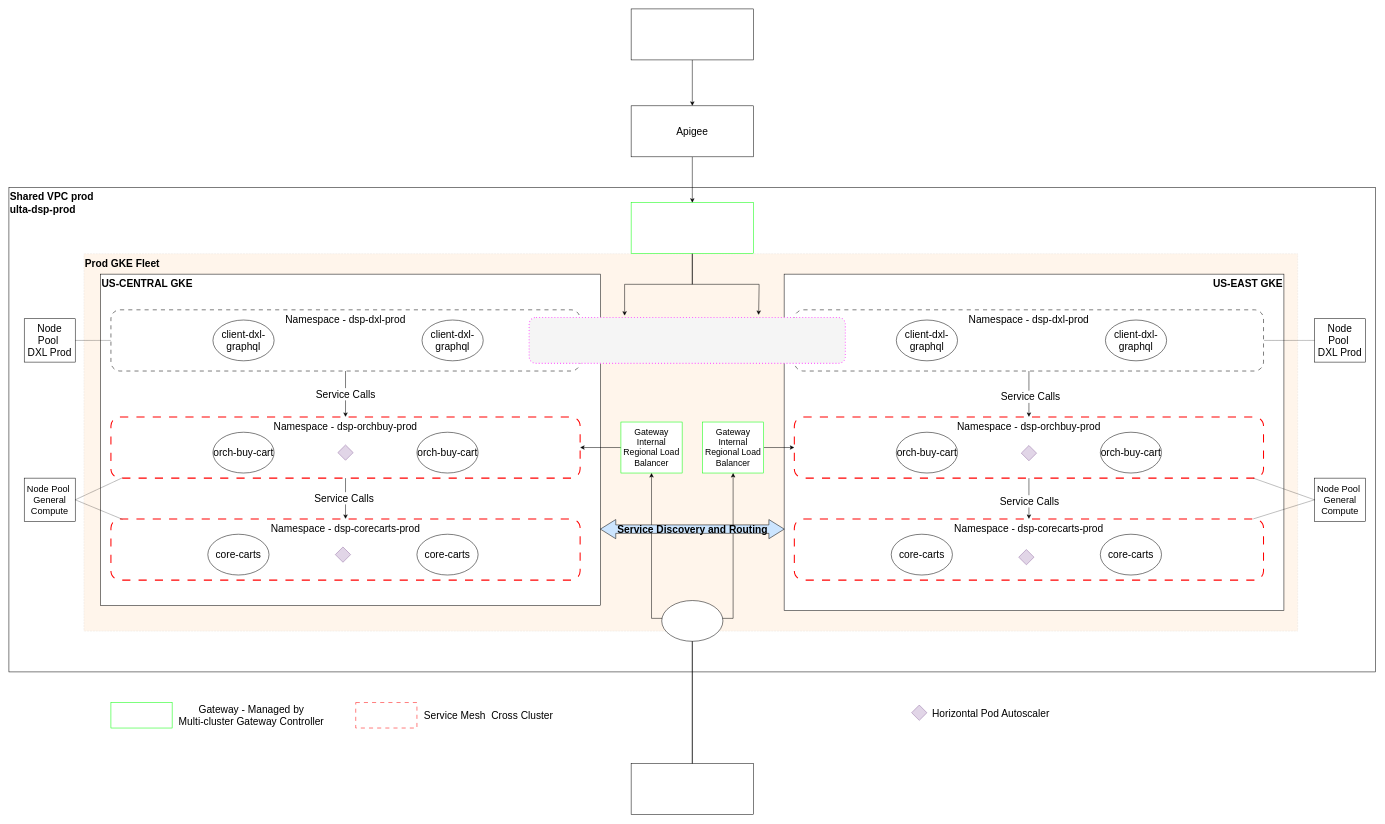
Some shapes in this 1385 by 824 pixel diagram are drawn without their labels. Each missing label, with the centre of its shape:
"Akamai" belongs at point (692, 34).
"DNS LB" belongs at point (692, 620).
"Gateway External Global Load Balancer" belongs at point (692, 228).
"Internal Clients / Systems" belongs at point (692, 789).
"Multi-cluster Service" belongs at point (687, 340).
